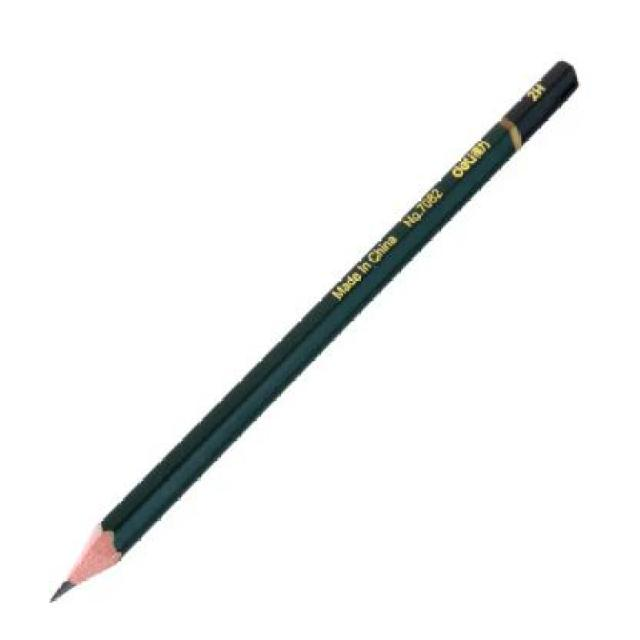pencil: (24, 41, 598, 634)
